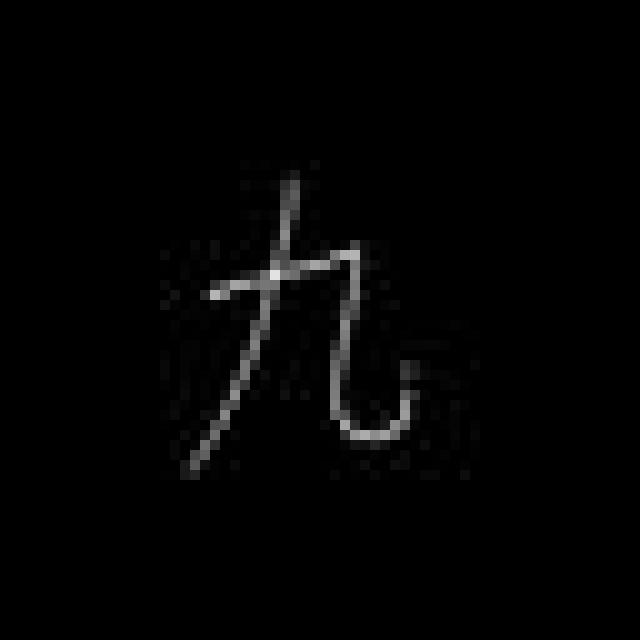9 -nine-: (170, 169, 418, 476)
